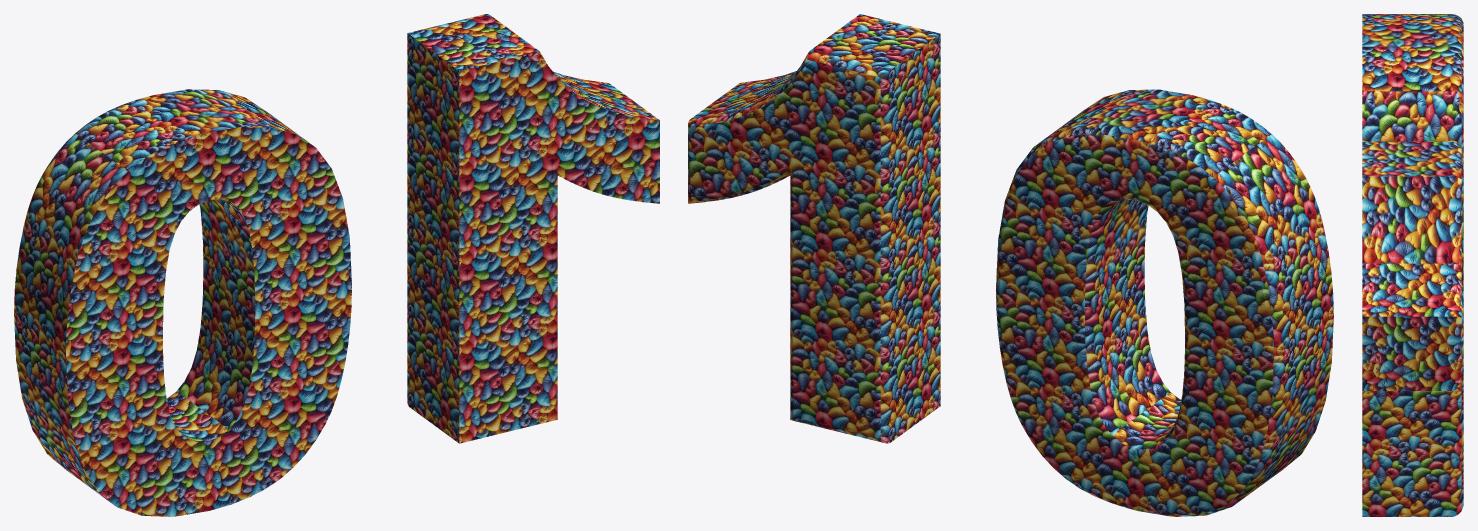
The model's file is YGB0310001.fbx.
3 renders of one model, left to right at view 1: azimuth 30°, elevation 25°; view 2: azimuth 150°, elevation 25°; view 3: azimuth 270°, elevation 25°, orthographic. The views are drawn at different scales.
Parts seen in each view (by area): view 1: smYGB0310001; view 2: smYGB0310001; view 3: smYGB0310001.
Boxes of the visible parts, x1,y1,x2,y2 form: smYGB0310001: (14, 14, 659, 516); smYGB0310001: (688, 14, 1333, 516); smYGB0310001: (1362, 14, 1463, 516).
Size of the model in its own units: 1713 by 1044 by 283.
Materials: 1 (1 with a texture image).
